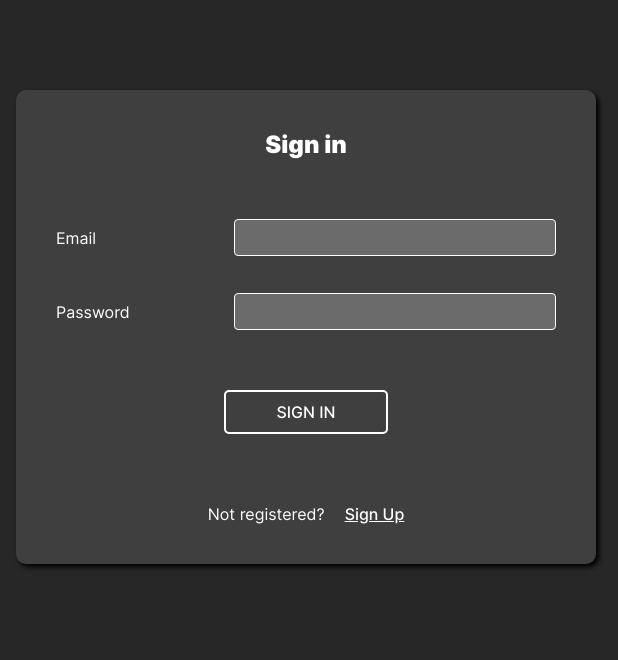
Scenario: app › unloggined navigation buttons test
Step 1. Click the button with test id "signUpNavigateButton" → (364, 514), box left=325, top=504, right=404, bottom=524
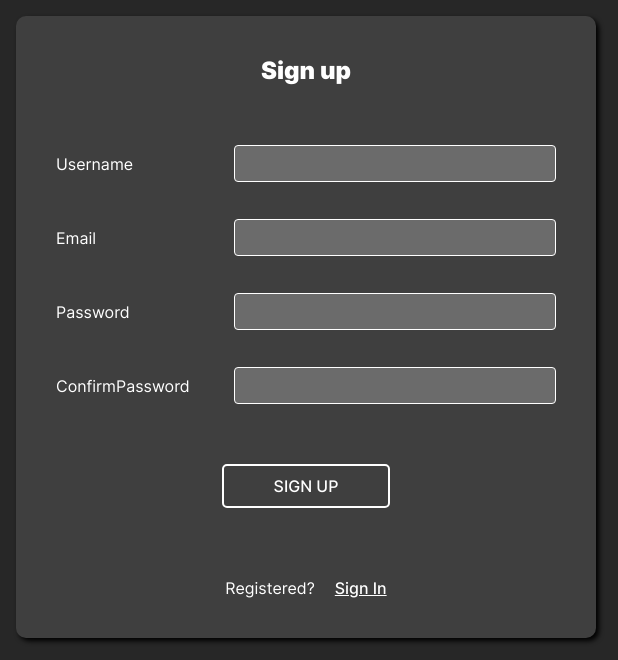
Expected: the element with test id "registrationPage" is shown
Step 2. Click the button with test id "signInNavigateButton" → (351, 588), box left=315, top=578, right=387, bottom=598
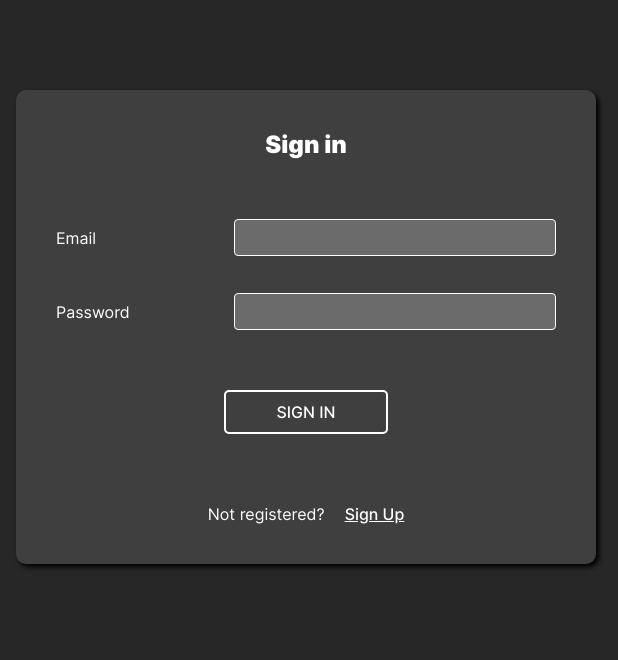
Expected: the element with test id "authorizationPage" is shown
